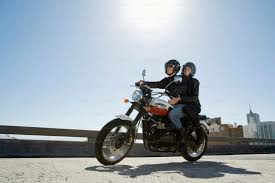motorcycle: (92, 69, 212, 167)
